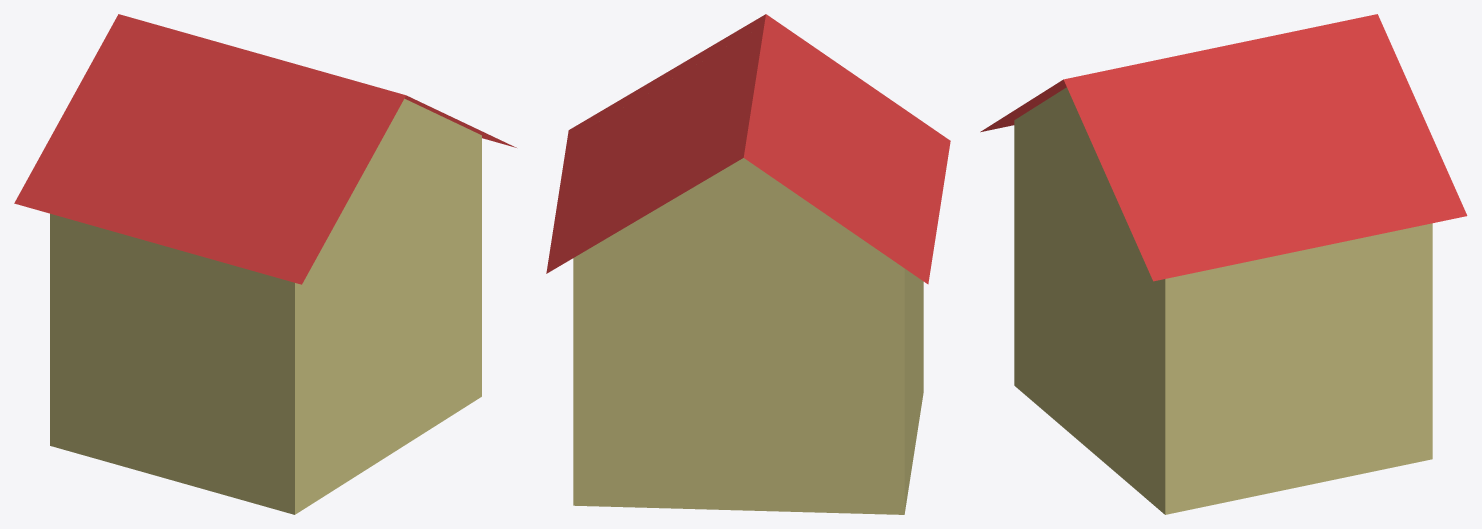
3 renders of one model, left to right at view 1: azimuth 30°, elevation 25°; view 2: azimuth 150°, elevation 25°; view 3: azimuth 270°, elevation 25°, orthographic. The views are drawn at different scales.
Visible parts, largest first — view 1: group_5, group_3; view 2: group_5, group_3, group_4; view 3: group_5, group_3, group_4.
Part boxes in pixels (x1,y1,x2,y2): group_5: (50,98,481,514); group_3: (14,14,516,284); group_5: (573,158,923,514); group_3: (546,14,950,284); group_4: (546,14,933,273); group_5: (1014,87,1432,514); group_3: (1087,15,1467,280); group_4: (980,14,1466,281).
Size of the model in its own units: 14.57 by 14.01 by 11.82.
